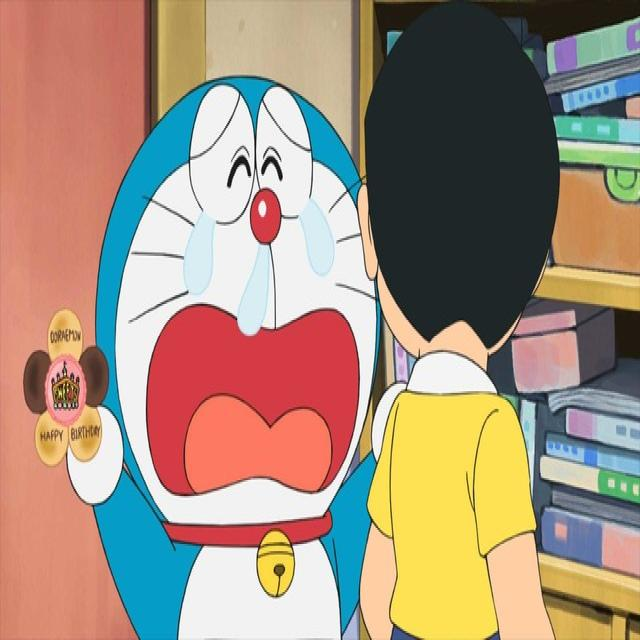doraemon: (70, 39, 411, 576)
